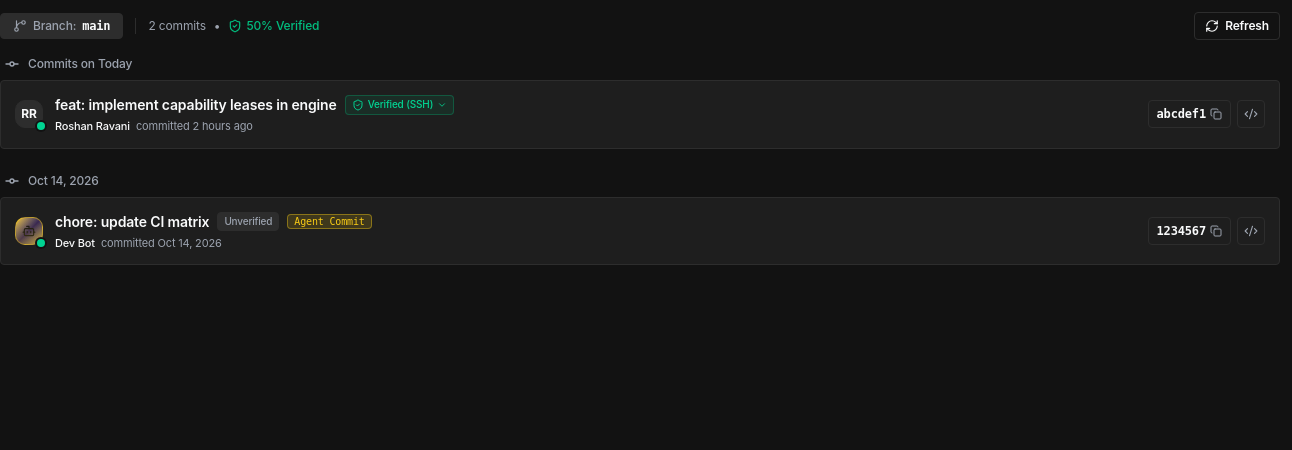
Test: CommitsView Component › toggles cryptographic signature inspection drawer on click
Click verified button to open drawer
Click the button "Verified (SSH)" at (399, 105), box [345,95,454,115]
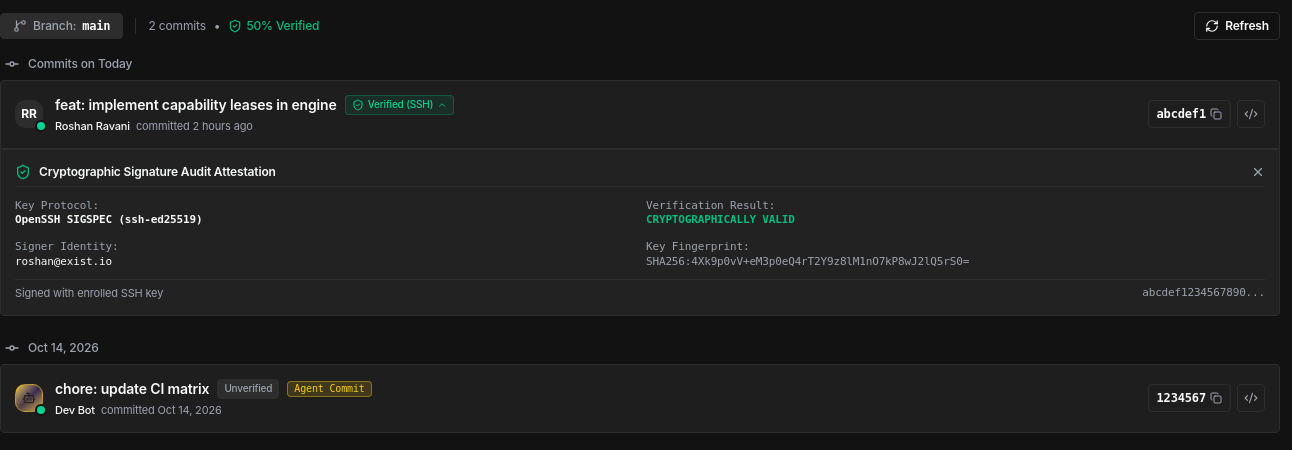
Expected: the text "Cryptographic Signature Audit Attestation" is shown, [39,164,276,180]
Expected: the text "OpenSSH SIGSPEC (ssh-ed25519)" is shown, [15,213,202,226]
Expected: the text "CRYPTOGRAPHICALLY VALID" is shown, [646,213,795,226]
